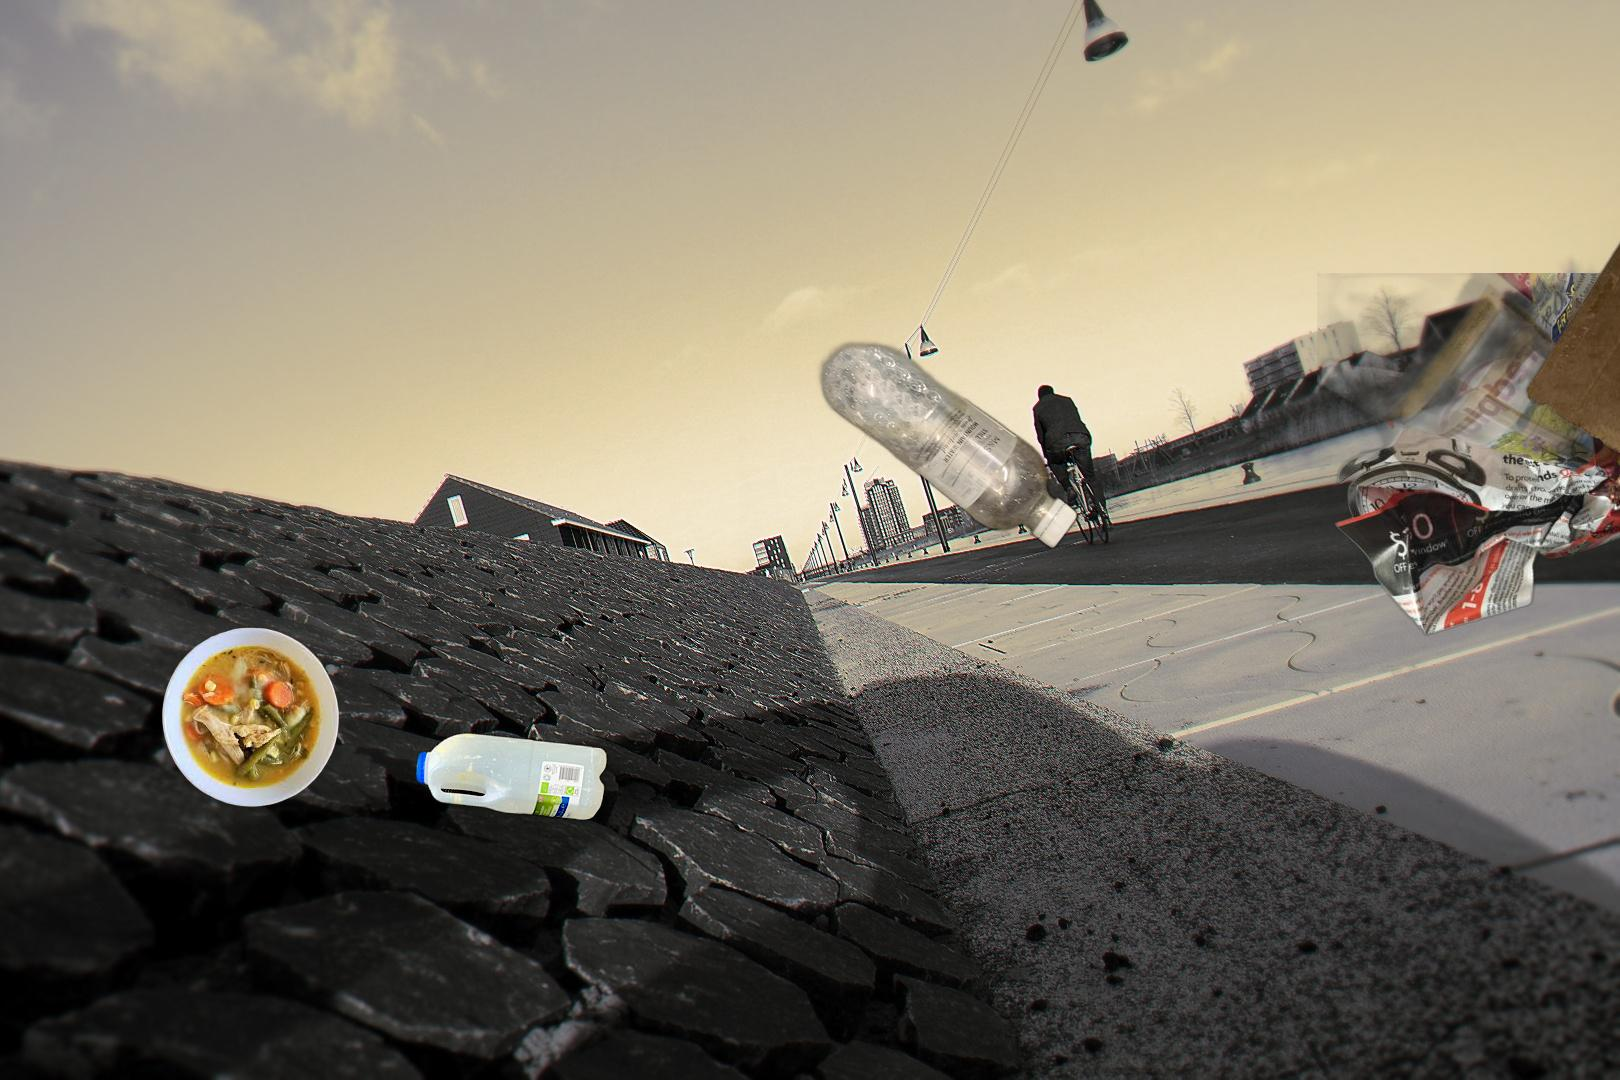biological: (159, 624, 342, 810)
paper: (1317, 273, 1620, 638), (1521, 163, 1620, 488)
plastic-bottles: (739, 337, 1082, 593), (411, 726, 613, 1080)
